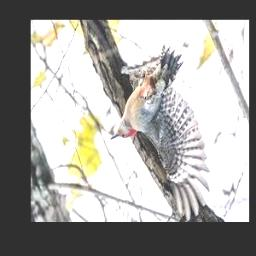Woodpecker: (111, 46, 210, 222)
